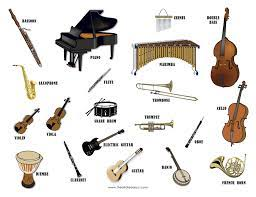Piano: (44, 2, 142, 86)
Saxophone: (11, 57, 46, 103)
Violin: (220, 83, 256, 147)
